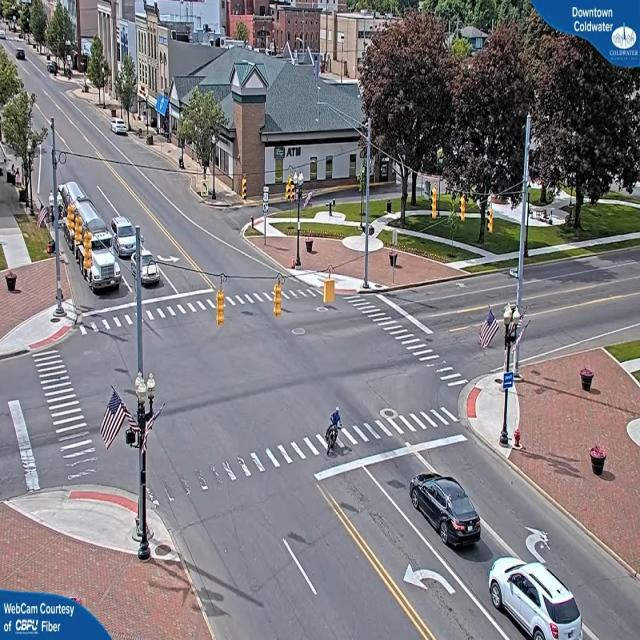car: (490, 561, 587, 640), (409, 476, 482, 551), (110, 219, 141, 257), (142, 257, 162, 287), (112, 121, 130, 138), (17, 50, 27, 63)
motorbike: (326, 406, 342, 457)
truck: (83, 244, 122, 293)
